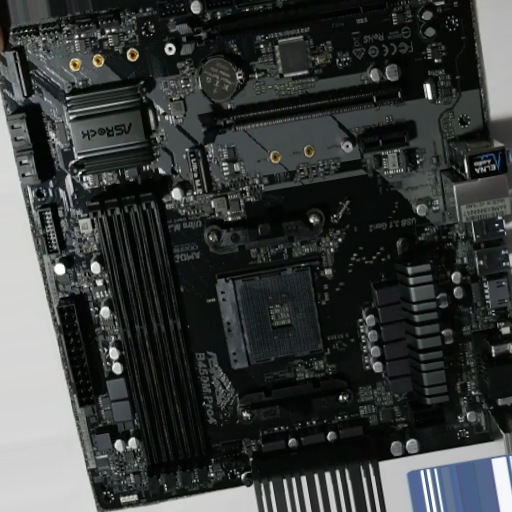CPU: (214, 270, 329, 365)
GPU: (200, 84, 405, 144), (177, 1, 387, 57)
MOTHERBOARD: (2, 2, 512, 502)
RAM: (84, 190, 210, 475)
SSD: (5, 47, 31, 102), (184, 147, 212, 195)
